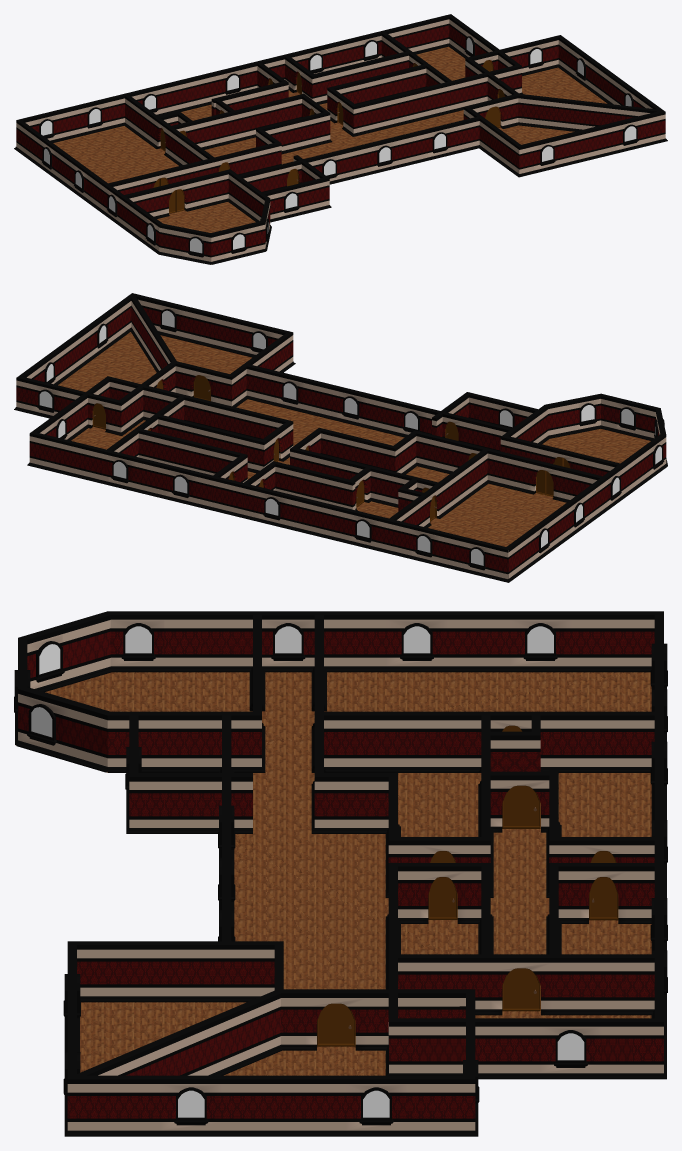
Rendered from Map.fbx.
3 views of the same model, one above another, from view 1: azimuth 30°, elevation 25°; view 2: azimuth 150°, elevation 25°; view 3: azimuth 270°, elevation 25° (orthographic). The views are drawn at different scales.
Visible parts, largest first — view 1: Floor, Wall.071, Wall.072, Wall Flat.118, Wall Flat.099, Wall Flat.112, Wall.079, Wall Flat.100, Wall.105, Wall.078, Wall Flat.103, Wall.020 (+87 smaller); view 2: Floor, Wall.089, Wall.020, Wall.017, Wall.069, Wall.109, Wall Flat.109, Wall.087, Wall.092, Wall.093, Wall Flat.100, Wall.070 (+90 smaller); view 3: Floor, Wall.068, Wall.077, Wall.116, Wall Flat.114, Wall Flat.120, Wall.123, Wall.096, Wall.075, Wall.076, Wall.086, Wall.121 (+68 smaller).
Boxes of the visible parts, x1,y1,x2,y2 form: Floor: (53,46,607,264); Wall.071: (518,94,549,128); Wall.072: (548,97,580,131); Wall Flat.118: (181,228,211,264); Wall Flat.099: (368,136,398,174); Wall Flat.112: (78,98,108,135); Wall.079: (420,82,450,119); Wall Flat.100: (424,123,453,160); Wall.105: (189,172,219,210); Wall.078: (393,88,423,126); Wall Flat.103: (614,115,644,153); Wall.020: (341,143,371,180); Floor: (58,332,650,546); Wall.089: (44,435,77,476); Wall.020: (366,393,399,435); Wall.017: (305,379,338,420); Wall.069: (213,314,247,355); Wall.109: (497,451,530,493); Wall Flat.109: (348,509,381,550); Wall.087: (135,457,168,498); Wall.092: (378,517,411,558); Wall.093: (317,502,350,543); Wall Flat.100: (274,371,308,412); Wall.070: (183,306,216,347); Floor: (15,672,651,1075); Wall.068: (98,941,160,1002); Wall.077: (98,1075,160,1136); Wall.116: (345,711,407,772); Wall Flat.114: (509,611,571,672); Wall Flat.120: (345,1075,407,1136); Wall.123: (324,611,386,672); Wall.096: (561,954,623,1015); Wall.075: (284,1075,345,1136); Wall.076: (222,1075,283,1136); Wall.086: (478,1018,539,1079); Wall.121: (571,611,632,672).
Size of the model in its own units: 4238 by 7231 by 400.
